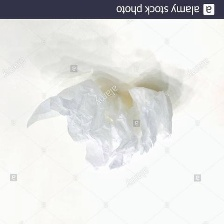tissue: (20, 64, 179, 176)
